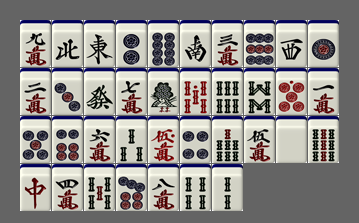0m: (148, 116, 179, 163)
0p: (276, 68, 307, 115)
0s: (180, 68, 211, 115)
1m: (308, 68, 339, 115)
1p: (308, 20, 339, 67)
1s: (148, 68, 179, 115)
1z: (84, 20, 115, 67)
2m: (20, 68, 51, 115)
2p: (116, 20, 147, 67)
2s: (212, 164, 243, 211)
2z: (180, 20, 211, 67)
3m: (212, 20, 243, 67)
3p: (52, 68, 83, 115)
3s: (116, 116, 147, 163)
3z: (276, 20, 307, 67)
4m: (52, 164, 83, 211)
4p: (180, 116, 211, 163)
4s: (180, 164, 211, 211)
4z: (52, 20, 83, 67)
5m: (244, 116, 275, 163)
5p: (20, 116, 51, 163)
5s: (84, 164, 115, 211)
5z: (276, 116, 307, 163)
6m: (84, 116, 115, 163)
6p: (52, 116, 83, 163)
6s: (212, 68, 243, 115)
6z: (84, 68, 115, 115)
7m: (116, 68, 147, 115)
7p: (116, 164, 147, 211)
7s: (212, 116, 243, 163)
7z: (20, 164, 51, 211)
8m: (148, 164, 179, 211)
8p: (148, 20, 179, 67)
8s: (244, 68, 275, 115)
9m: (20, 20, 51, 67)
9p: (244, 20, 275, 67)
9s: (308, 116, 339, 163)
